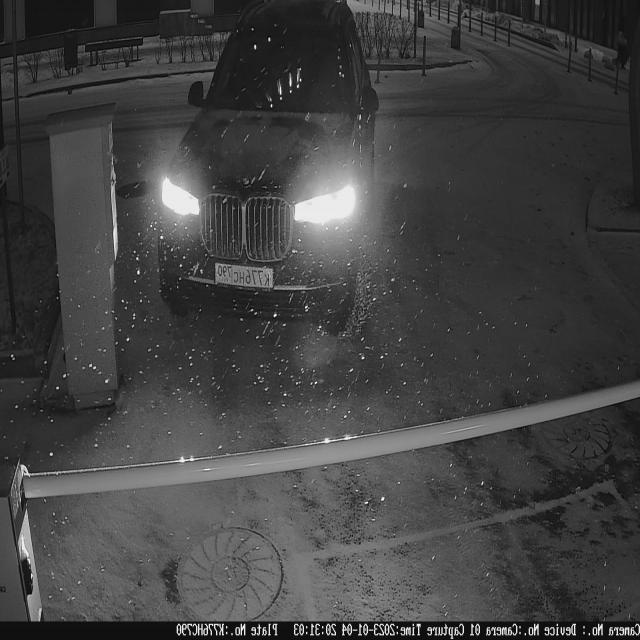car-plate-numbers: (211, 263, 278, 295)
